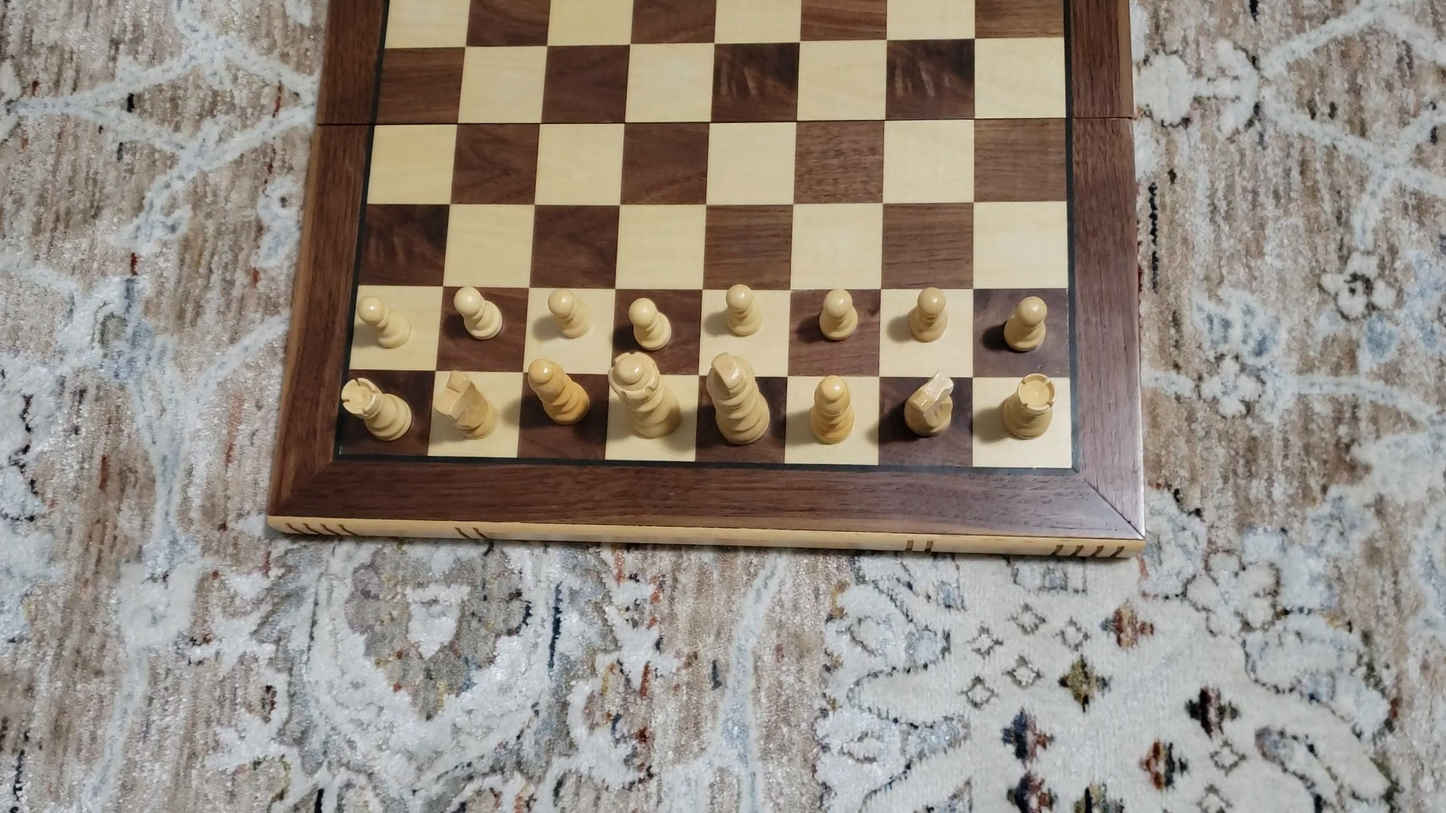white-bishop: (524, 356, 591, 428), (806, 371, 861, 448)
white-king: (703, 351, 774, 449)
white-knight: (431, 367, 499, 443), (896, 369, 958, 444)
white-pawn: (996, 291, 1051, 357), (354, 292, 414, 352), (451, 282, 508, 343), (902, 282, 954, 347), (622, 294, 676, 353), (813, 285, 862, 345), (543, 285, 594, 342), (718, 279, 764, 341)
white-queen: (604, 349, 686, 446)
white-rook: (339, 375, 412, 443), (999, 369, 1059, 443)
